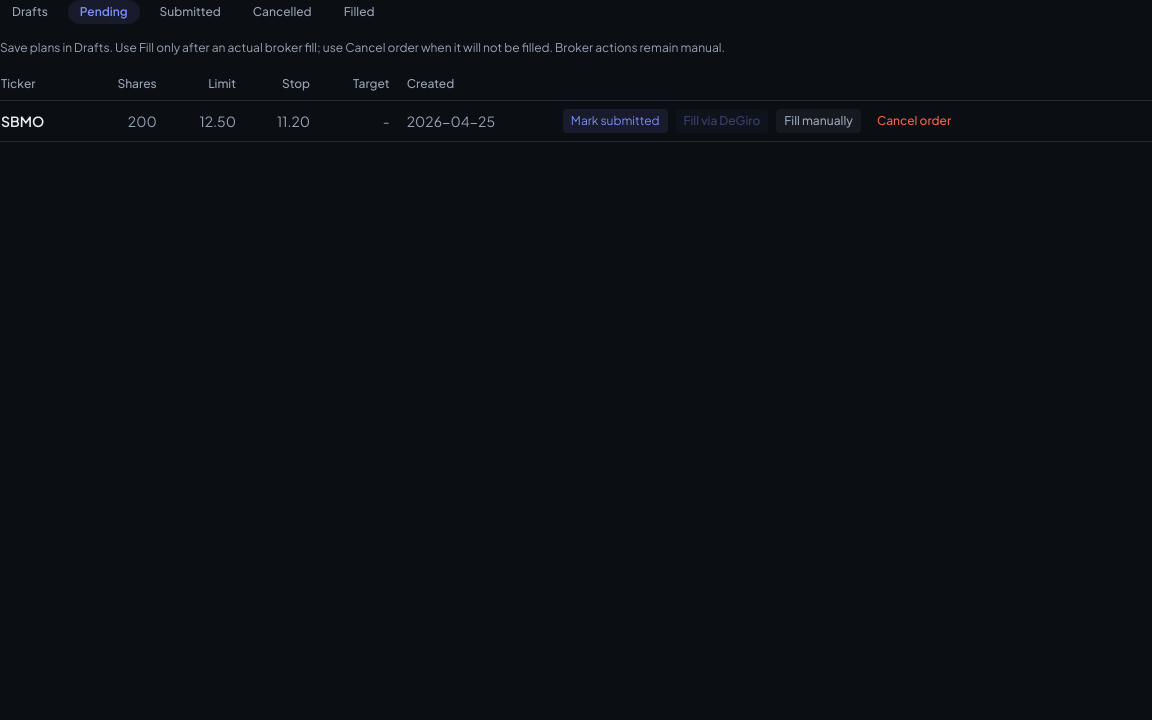
it: PendingOrdersTab › retains the order and displays a cancellation error for retry
The image size is (1152, 720).
Step 1. Click the button "Cancel order" → click(914, 121), box top-left (869, 109), bottom-right (959, 133)
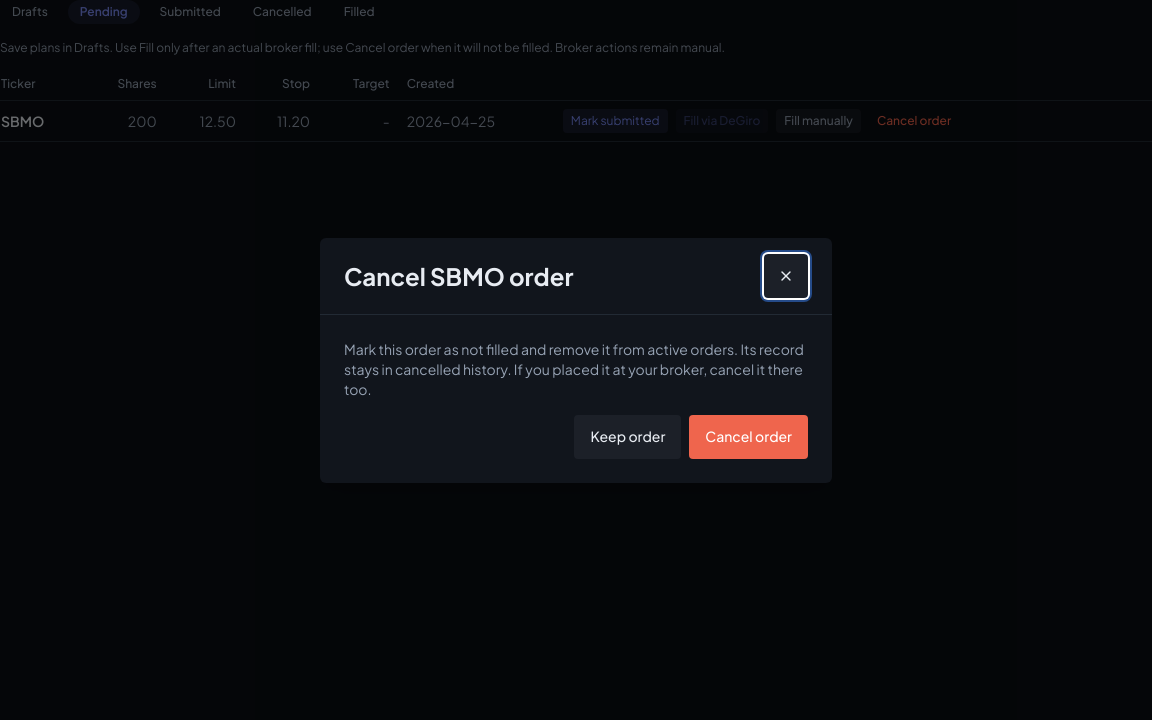
Step 2. Click the button "Cancel order" → click(749, 436), box top-left (689, 414), bottom-right (808, 458)
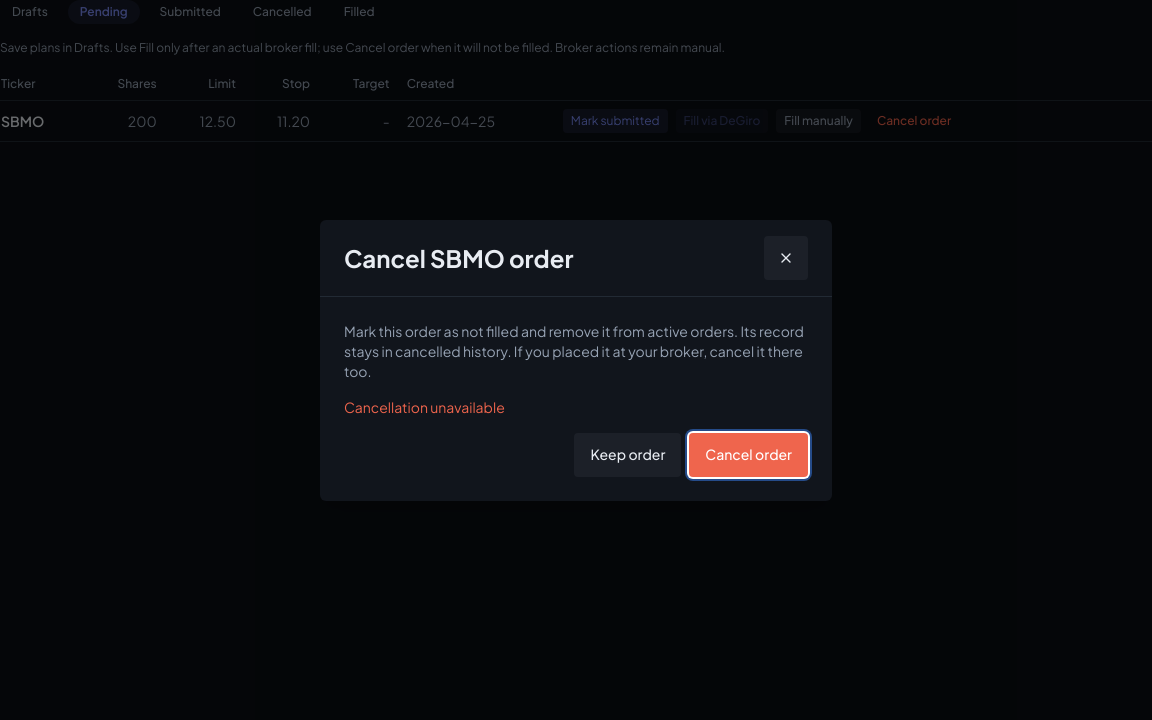
Expected: the text "SBMO" is shown, top-left (0, 100), bottom-right (89, 142)
Expected: the message reads "Cancellation unavailable", top-left (344, 398), bottom-right (505, 416)
